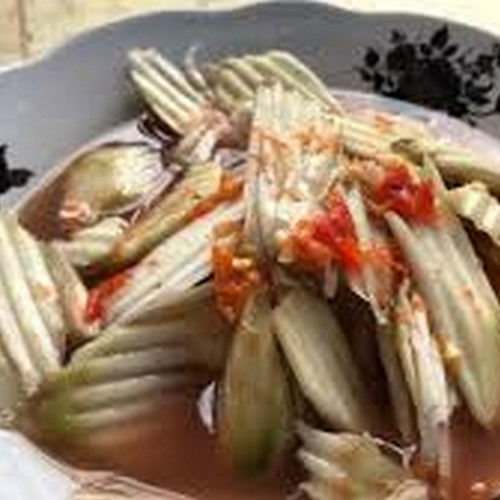rujak buleleng: (60, 95, 490, 489)
